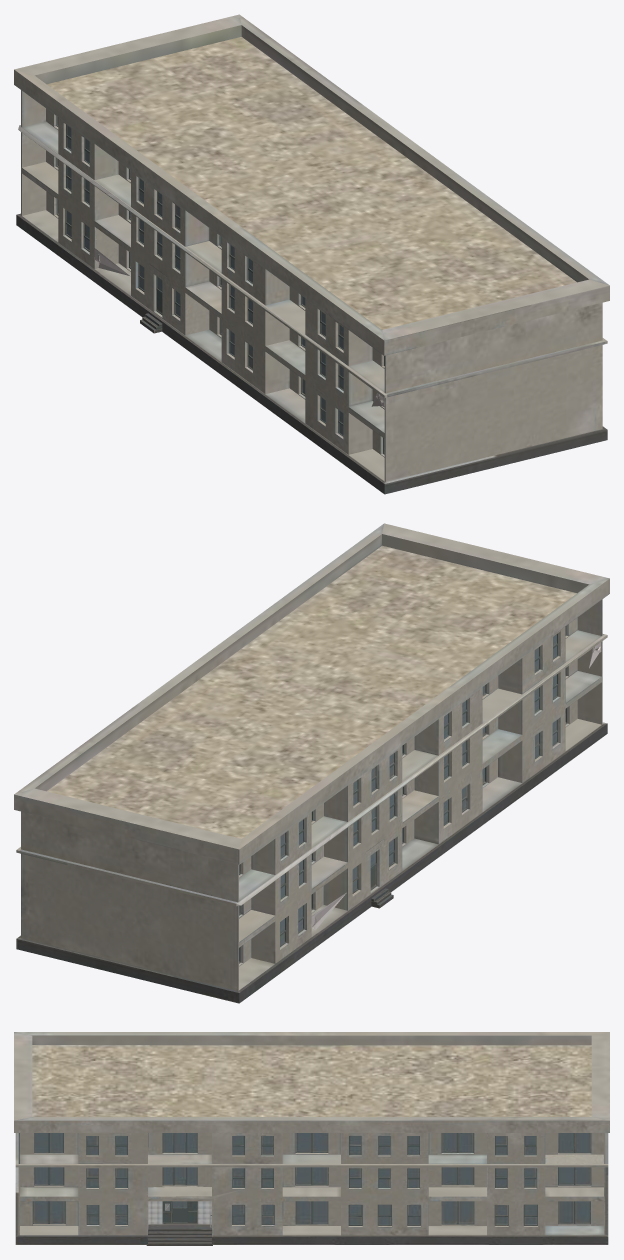
Rendered from batiment_marin-B8HvV9sx.glb.
3 renders of one model, top to bottom at view 1: azimuth 30°, elevation 25°; view 2: azimuth 150°, elevation 25°; view 3: azimuth 270°, elevation 25°, orthographic. The views are drawn at different scales.
Parts seen in each view (by area): view 1: BatimentMarin_lambert1_0; view 2: BatimentMarin_lambert1_0; view 3: BatimentMarin_lambert1_0.
Part boxes in pixels (<box>): BatimentMarin_lambert1_0: <box>14,14,609,494</box>; BatimentMarin_lambert1_0: <box>14,523,609,1003</box>; BatimentMarin_lambert1_0: <box>14,1032,609,1245</box>.
Size of the model in its own units: 3.72 by 2.39 by 10.25.
Materials: 1 (1 with a texture image).
